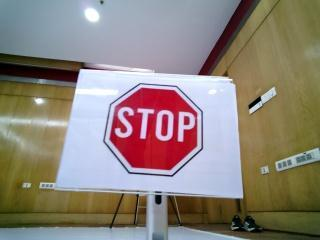stop: (74, 69, 225, 197)
